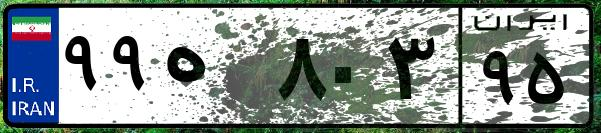0: (330, 28, 385, 110)
3: (385, 28, 445, 110)
5: (525, 38, 570, 115)
8: (270, 28, 330, 110)
9: (57, 26, 110, 100), (475, 38, 525, 113), (110, 28, 158, 98)
ه: (158, 20, 270, 120)
